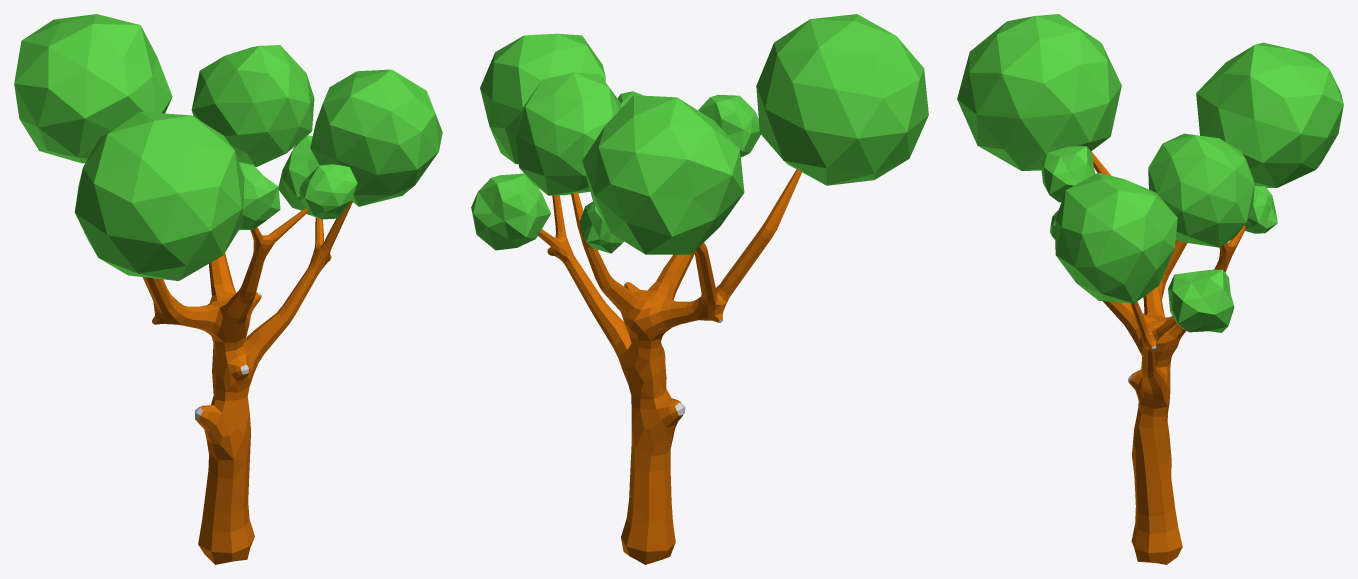
File: Tree04.fbx
3 views of the same model, side by side, from view 1: azimuth 30°, elevation 25°; view 2: azimuth 150°, elevation 25°; view 3: azimuth 270°, elevation 25° (orthographic). The views are drawn at different scales.
Visible parts, largest first — view 1: Plane; view 2: Plane; view 3: Plane.
Part boxes in pixels (x1,y1,x2,y2): Plane: (14, 14, 442, 564); Plane: (471, 14, 928, 564); Plane: (957, 14, 1343, 564).
Size of the model in its own units: 509 by 655 by 475.
